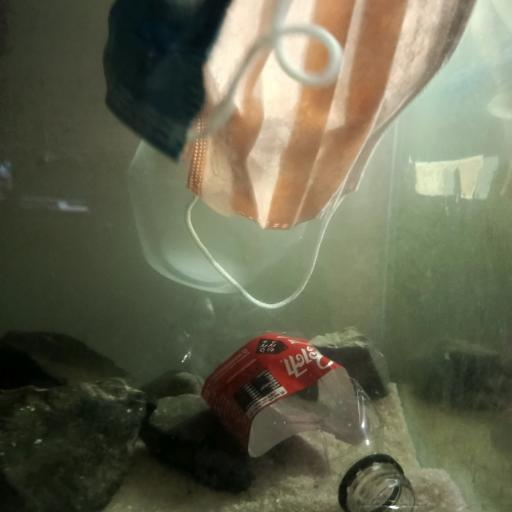mask: (196, 0, 480, 307), (104, 0, 196, 138)
plastic_bottle: (166, 296, 414, 512)
plastic_cup: (127, 136, 312, 296)
